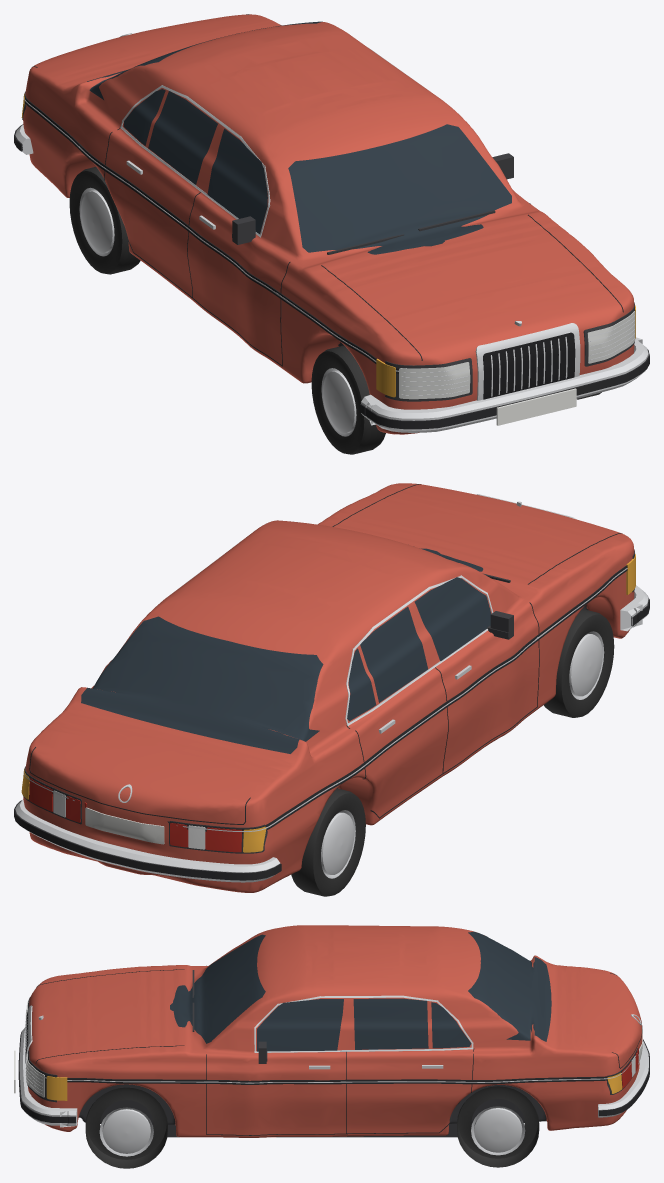
The picture shows the model from 3 angles, top to bottom: view 1: azimuth 30°, elevation 25°; view 2: azimuth 150°, elevation 25°; view 3: azimuth 270°, elevation 25°; orthographic projection. The views are drawn at different scales.
Visible parts, largest first — view 1: paint, glass, trim, wheel_fr, wheel_rr, headlights, front_blinker_right; view 2: paint, glass, trim, wheel_rr, wheel_fr, taillights, reverse_lights; view 3: paint, glass, trim, wheel_fl, wheel_rl, front_blinker_left, headlights.
Boxes of the visible parts, <box> form: paint: <box>23,14,634,434</box>; glass: <box>87,21,511,254</box>; trim: <box>14,14,649,432</box>; wheel_fr: <box>311,345,385,454</box>; wheel_rr: <box>69,166,140,274</box>; headlights: <box>399,311,635,399</box>; front_blinker_right: <box>376,358,395,397</box>; paint: <box>23,483,634,892</box>; glass: <box>81,522,491,753</box>; trim: <box>14,484,649,882</box>; wheel_rr: <box>291,788,365,896</box>; wheel_fr: <box>544,609,614,717</box>; taillights: <box>29,778,242,852</box>; reverse_lights: <box>53,790,205,849</box>; paint: <box>28,925,642,1137</box>; glass: <box>170,931,551,1051</box>; trim: <box>14,965,649,1137</box>; wheel_fl: <box>85,1087,167,1168</box>; wheel_rl: <box>457,1086,539,1167</box>; front_blinker_left: <box>46,1076,67,1100</box>; headlights: <box>26,1000,44,1097</box>.
Size of the model in its own units: 1.82 by 1.44 by 4.79.
